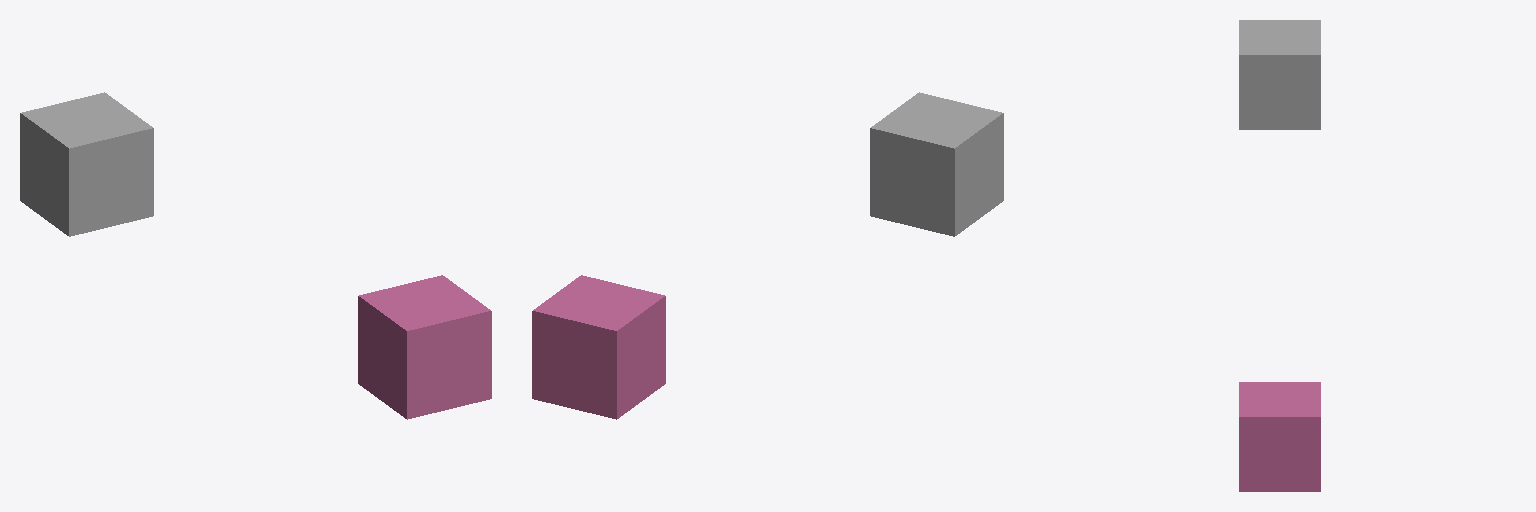
robot.urdf — b_rover:
<?xml version="1.0" ?>
<robot name="b_rover">

  <joint name="camera_joint" type="fixed">
    <parent link="chassis"/>
    <child link="camera_link"/>
    <origin rpy="0 0 0" xyz="0   0   0.06"/>
    <axis xyz="0 0 0"/>
    <limit effort="0" lower="0" upper="0" velocity="0"/>
  </joint>

  <joint name="sonar_joint" type="fixed">
    <parent link="chassis"/>
    <child link="sonar_link"/>
    <origin rpy="0 0 0" xyz="0.04 0   0.03"/>
    <axis xyz="0 0 0"/>
    <limit effort="0" lower="0" upper="0" velocity="0"/>
  </joint>

  <joint name="fl_wheel_hinge" type="fixed">
    <parent link="chassis"/>
    <child link="front_left_wheel"/>
    <origin rpy="0     1.5707 1.5707" xyz="-0.025    0.03     0.01499"/>
    <axis xyz="9.e-05 9.e-05 1.e+00"/>
    <limit effort="0" lower="0" upper="0" velocity="0"/>
  </joint>

  <joint name="fr_wheel_hinge" type="fixed">
    <parent link="chassis"/>
    <child link="front_right_wheel"/>
    <origin rpy="0     1.5707 1.5707" xyz="-0.02499 -0.03     0.015"/>
    <axis xyz="9.e-05 9.e-05 1.e+00"/>
    <limit effort="0" lower="0" upper="0" velocity="0"/>
  </joint>

  <joint name="bl_wheel_hinge" type="fixed">
    <parent link="chassis"/>
    <child link="back_left_wheel"/>
    <origin rpy="0     1.5707 1.5707" xyz="0.02499 0.03    0.01499"/>
    <axis xyz="9.e-05 9.e-05 1.e+00"/>
    <limit effort="0" lower="0" upper="0" velocity="0"/>
  </joint>

  <joint name="br_wheel_hinge" type="fixed">
    <parent link="chassis"/>
    <child link="back_right_wheel"/>
    <origin rpy="0     1.5707 1.5707" xyz="0.025 -0.03   0.015"/>
    <axis xyz="9.e-05 9.e-05 1.e+00"/>
    <limit effort="0" lower="0" upper="0" velocity="0"/>
  </joint>


    <joint name = "base_joint"  type = "fixed">
        <parent link="world"/>
        <child link="chassis"/>
        <origin xyz="0.0 0.0 0.0" rpy="0 0 0" />
        <axis xyz="0 1 0" rpy="0 0 0" />
    </joint>



  <link  name =  "world"/>

  <link name="chassis">
    <inertial>
      <mass value="0"/>
      <origin rpy="0 0 0" xyz="0 0 0"/>
      <inertia ixx="0" ixy="0" ixz="0" iyy="0" iyz="0" izz="0"/>
    </inertial>
    <collision name="collision">
      <origin rpy="0 0 0" xyz="0    0    0.021"/>
      <geometry>
        <box size=".07 .06 .034"/>
      </geometry>
    </collision>
    <visual name="visual">
      <origin rpy="0     0     1.5707" xyz="0    0    0.006"/>
      <geometry>
        <mesh filename="package://b_rover_description/models/b_rover/meshes/chassis.stl" scale="0.001 0.001 0.001"/>
      </geometry>
    </visual>
  </link>

  <link name="front_left_wheel">
    <inertial>
      <mass value="0"/>
      <origin rpy="0 0 0" xyz="0 0 0"/>
      <inertia ixx="0" ixy="0" ixz="0" iyy="0" iyz="0" izz="0"/>
    </inertial>
    <collision name="collision">
      <origin rpy="0 0 0" xyz="0    0    0.011"/>
      <geometry>
        <cylinder length=".02" radius=".015"/>
      </geometry>
    </collision>
    <visual name="visual">
      <origin rpy="0     1.5707 1.5707" xyz="0.0267 -0.0083 -0.023"/>
      <geometry>
        <mesh filename="package://b_rover_description/models/b_rover/meshes/master_wheel.stl" scale="0.001 0.001 0.001"/>
      </geometry>
    </visual>
  </link>

  <link name="front_right_wheel">
    <inertial>
      <mass value="0"/>
      <origin rpy="0 0 0" xyz="0 0 0"/>
      <inertia ixx="0" ixy="0" ixz="0" iyy="0" iyz="0" izz="0"/>
    </inertial>
    <collision name="collision">
      <origin rpy="0 0 0" xyz="0     0    -0.011"/>
      <geometry>
        <cylinder length=".02" radius=".015"/>
      </geometry>
    </collision>
    <visual name="visual">
      <origin rpy="0     -1.5707  1.5707" xyz="0.0268 0.008  0.023"/>
      <geometry>
        <mesh filename="package://b_rover_description/models/b_rover/meshes/master_wheel.stl" scale="0.001 0.001 0.001"/>
      </geometry>
    </visual>
  </link>

  <link name="back_left_wheel">
    <inertial>
      <mass value="0"/>
      <origin rpy="0 0 0" xyz="0 0 0"/>
      <inertia ixx="0" ixy="0" ixz="0" iyy="0" iyz="0" izz="0"/>
    </inertial>
    <collision name="collision">
      <origin rpy="0 0 0" xyz="0    0    0.011"/>
      <geometry>
        <cylinder length=".02" radius=".015"/>
      </geometry>
    </collision>
    <visual name="visual">
      <origin rpy="0     1.5707 1.5707" xyz="0.0268 -0.008  -0.023"/>
      <geometry>
        <mesh filename="package://b_rover_description/models/b_rover/meshes/master_wheel.stl" scale="0.001 0.001 0.001"/>
      </geometry>
    </visual>
  </link>

  <link name="back_right_wheel">
    <inertial>
      <mass value="0"/>
      <origin rpy="0 0 0" xyz="0 0 0"/>
      <inertia ixx="0" ixy="0" ixz="0" iyy="0" iyz="0" izz="0"/>
    </inertial>
    <collision name="collision">
      <origin rpy="0 0 0" xyz="0     0    -0.011"/>
      <geometry>
        <cylinder length=".02" radius=".015"/>
      </geometry>
    </collision>
    <visual name="visual">
      <origin rpy="0     -1.5707  1.5707" xyz="0.0268 0.008  0.023"/>
      <geometry>
        <mesh filename="package://b_rover_description/models/b_rover/meshes/master_wheel.stl" scale="0.001 0.001 0.001"/>
      </geometry>
    </visual>
  </link>

  <link name="sonar_link">
    <inertial>
      <mass value="0"/>
      <origin rpy="0 0 0" xyz="0 0 0"/>
      <inertia ixx="0" ixy="0" ixz="0" iyy="0" iyz="0" izz="0"/>
    </inertial>
    <collision name="collision">
      <origin rpy="0 0 0" xyz="0 0 0"/>
      <geometry>
        <box size="0.01 0.01 0.01"/>
      </geometry>
    </collision>
    <visual name="visual">
      <origin rpy="0 0 0" xyz="0 0 0"/>
      <geometry>
        <box size="0.01 0.01 0.01"/>
      </geometry>
    </visual>
  </link>

  <link name="camera_link">
    <inertial>
      <mass value="0"/>
      <origin rpy="0 0 0" xyz="0 0 0"/>
      <inertia ixx="0" ixy="0" ixz="0" iyy="0" iyz="0" izz="0"/>
    </inertial>
    <collision name="collision">
      <origin rpy="0 0 0" xyz="0 0 0"/>
      <geometry>
        <box size="0.01 0.01 0.01"/>
      </geometry>
    </collision>
    <visual name="visual">
      <origin rpy="0 0 0" xyz="0 0 0"/>
      <geometry>
        <box size="0.01 0.01 0.01"/>
      </geometry>
    </visual>
  </link>
  
</robot>

--- Facts derived from the render (not from the file) ---
The picture shows the robot from 3 angles, left to right: view 1: azimuth 30°, elevation 25°; view 2: azimuth 150°, elevation 25°; view 3: azimuth 270°, elevation 25°; orthographic projection.
Robot: b_rover — 8 links, 7 joints (7 fixed); root link world; default pose: every joint at zero.
Links seen in each view (by area): view 1: sonar_link, camera_link; view 2: sonar_link, camera_link; view 3: sonar_link, camera_link.
Link boxes in pixels (box(x1,y1,x2,y2)): sonar_link: box(358, 275, 491, 419); camera_link: box(20, 92, 153, 236); sonar_link: box(532, 275, 665, 419); camera_link: box(870, 92, 1003, 236); sonar_link: box(1239, 382, 1320, 491); camera_link: box(1239, 20, 1320, 129).
Size in the robot's own frame: 0.05 by 0.01 by 0.04 metres.
Meshes: 2 distinct files referenced, 0 mesh visuals loaded (none loaded); not drawn: 5 (reference not matched to a file when rendering).